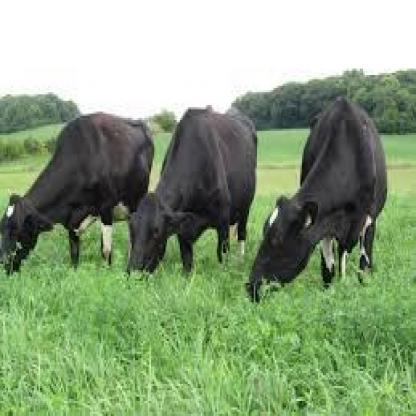cow: (244, 94, 389, 304), (0, 112, 157, 277), (114, 105, 260, 281)
